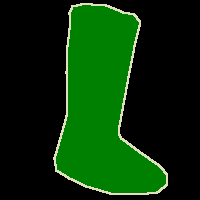shoe: (54, 4, 167, 194)
